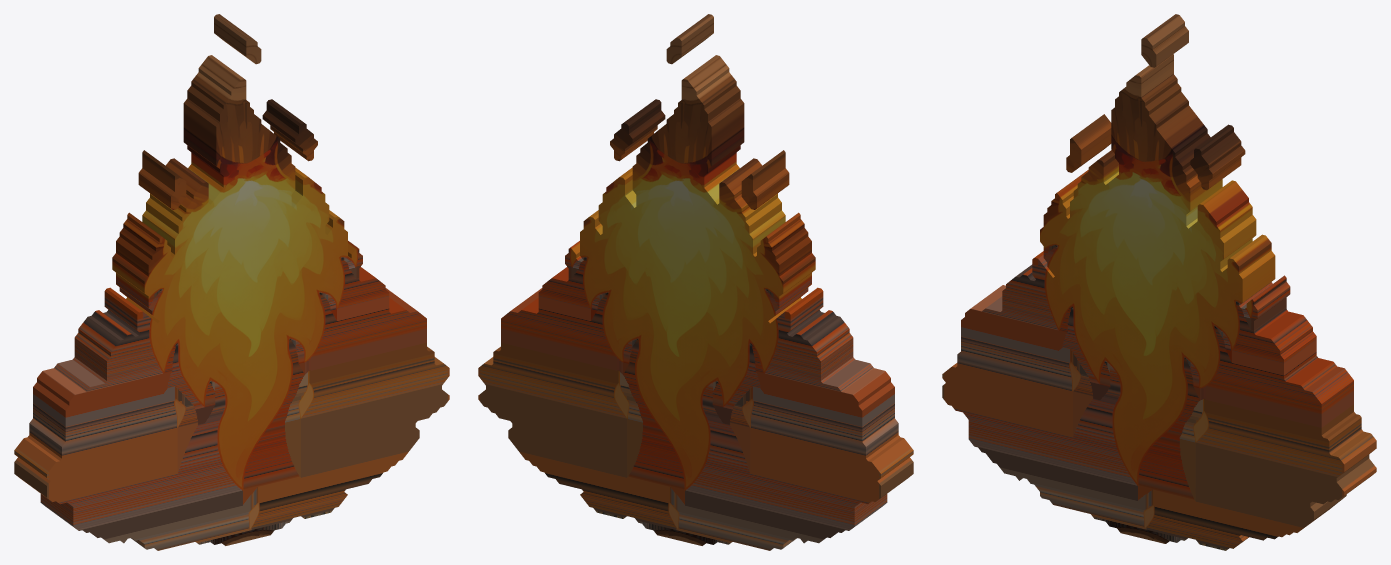
The model's file is bonfire.glb.
The picture shows the model from 3 angles, left to right: view 1: azimuth 30°, elevation 25°; view 2: azimuth 150°, elevation 25°; view 3: azimuth 330°, elevation 25°; orthographic projection.
Parts seen in each view (by area): view 1: world; view 2: world; view 3: world.
Part boxes in pixels (bbox=[...]): world: bbox=[14, 14, 449, 550]; world: bbox=[478, 14, 913, 550]; world: bbox=[942, 14, 1376, 550].
Size of the model in its own units: 0.9657 by 1.15 by 0.1352.
1 material, 1 textured.
